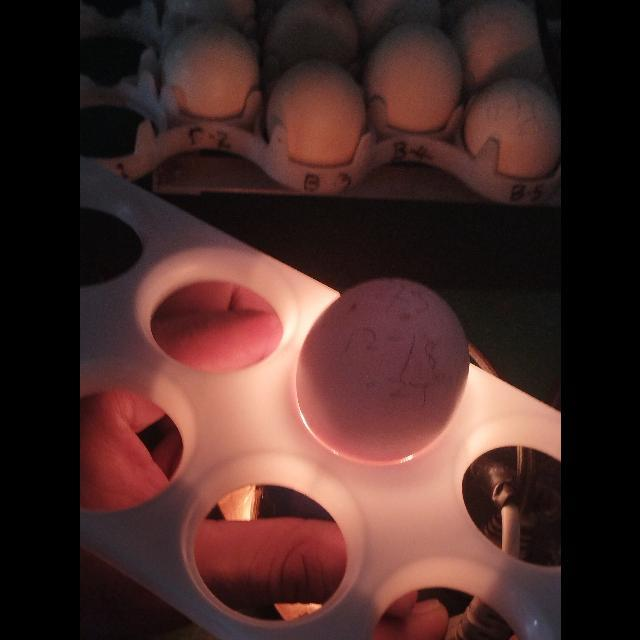Fertile: (294, 282, 470, 460)
